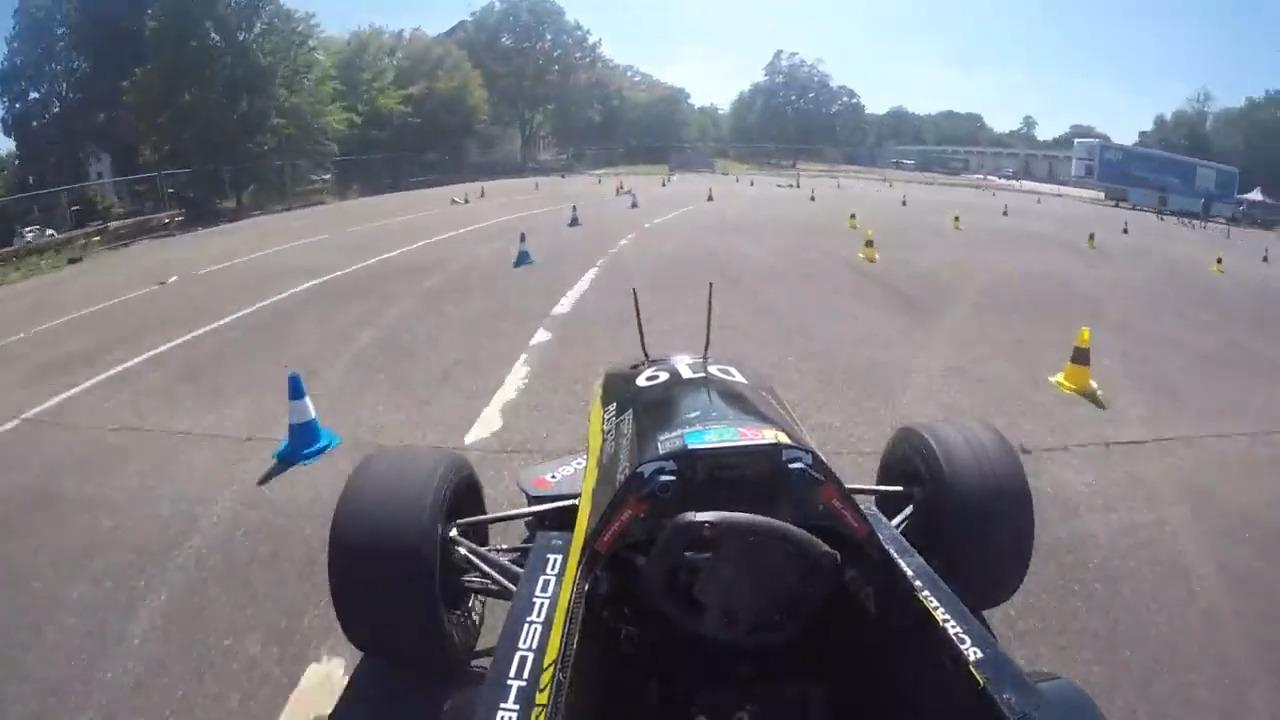blue_cone: (272, 363, 330, 460), (508, 231, 540, 264), (566, 200, 580, 236)
yellow_cone: (1055, 326, 1094, 392), (854, 226, 881, 265)
